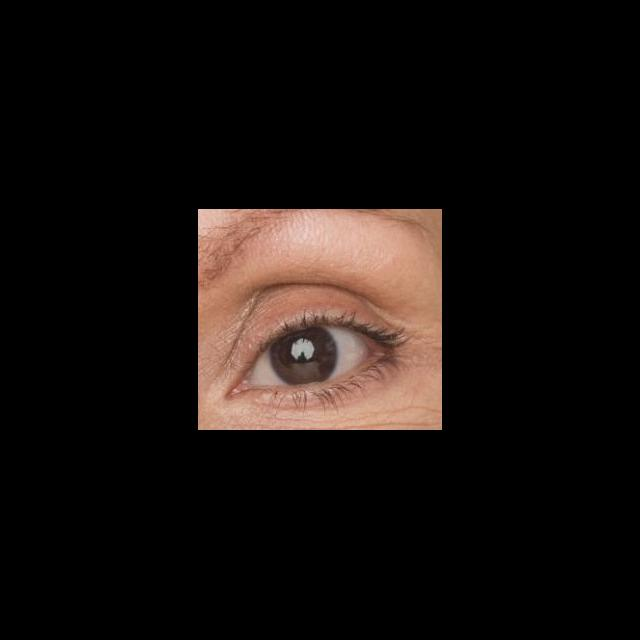eye: (248, 326, 368, 388)
iris: (270, 327, 337, 387)
